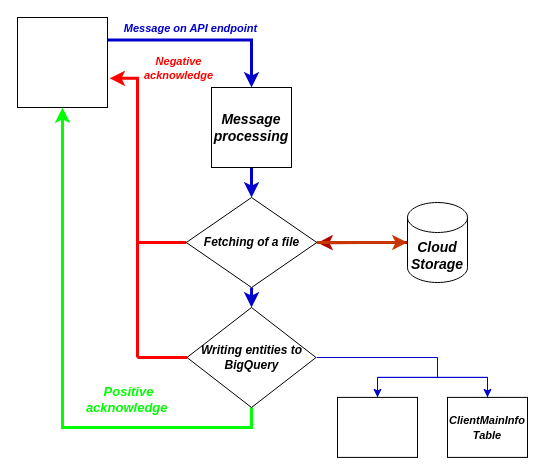
Some shapes in this 545 by 475 pixel diagram are drawn without their labels. Here are the shapes that lost their labels. From the top down, the box of each, then its label:
(16, 16, 108, 108): Pub/Sub
(336, 396, 418, 457): Client Table
